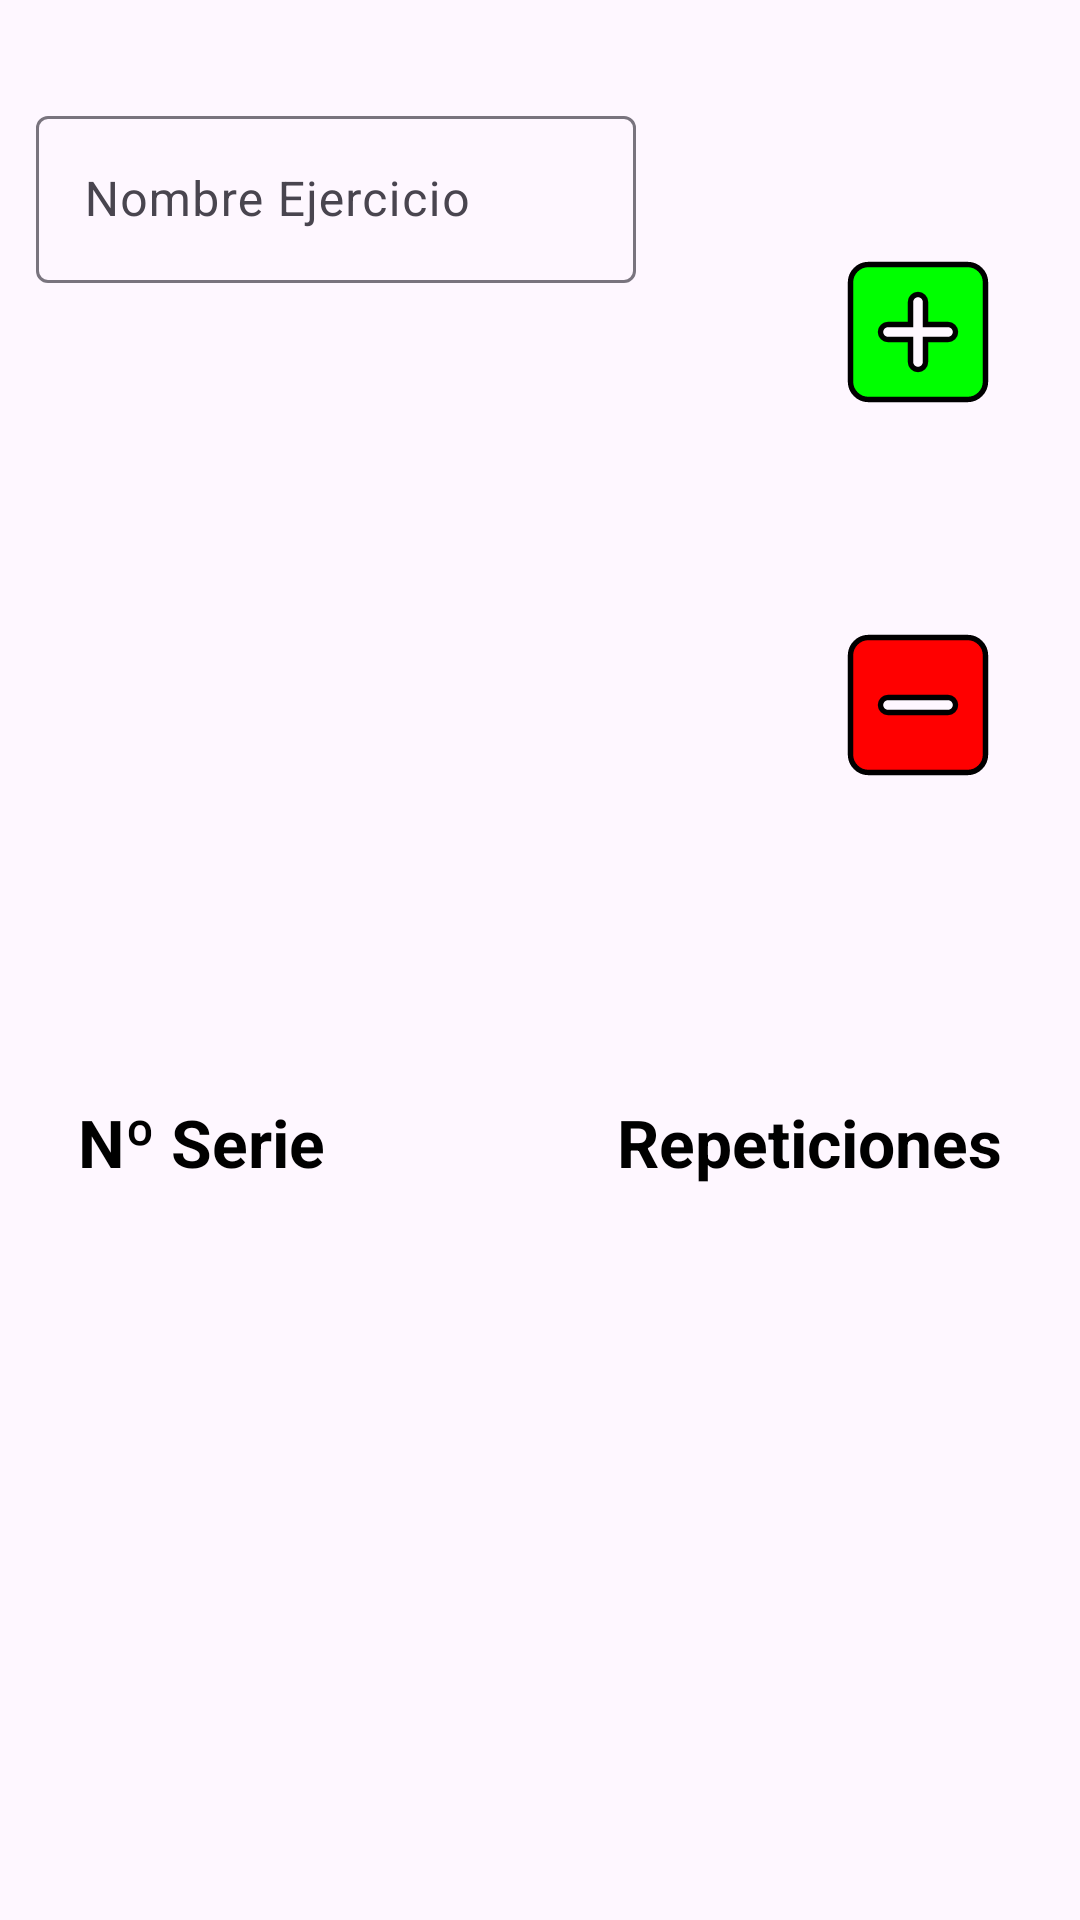

Point at icon controls on the screen. Image size 1080x1920, points as (x,y).
decrement: (918,705)
increment: (918,332)
